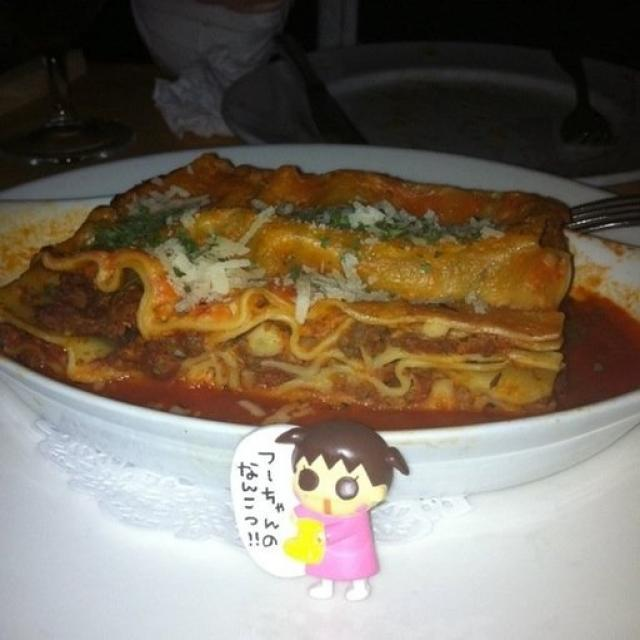Lasagna: (54, 127, 595, 429)
